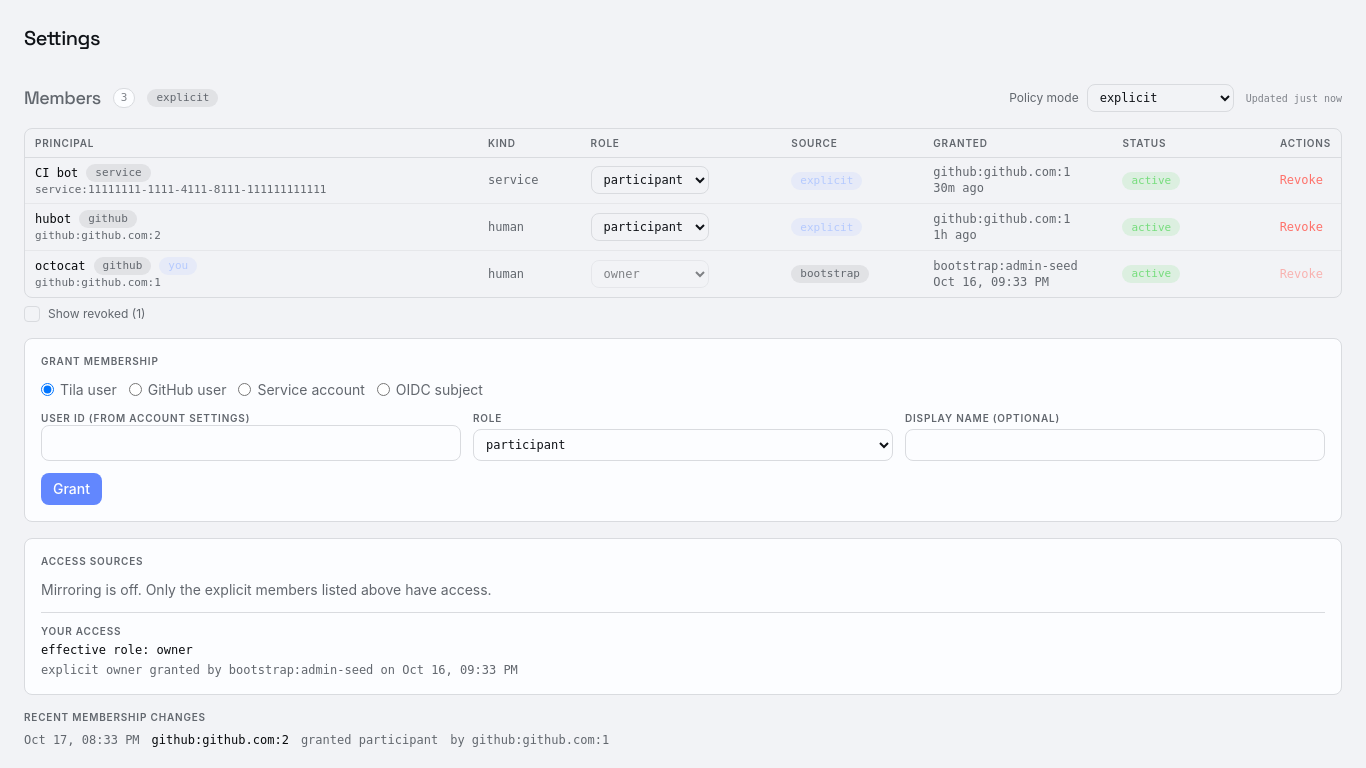
Test case: SettingsPage failure states › a failed members refresh keeps the table, the grant draft and an open revoke dialog
The image size is (1366, 768).
Click the radio button labelled "GitHub user" at (135, 390), box [129,383,142,396]
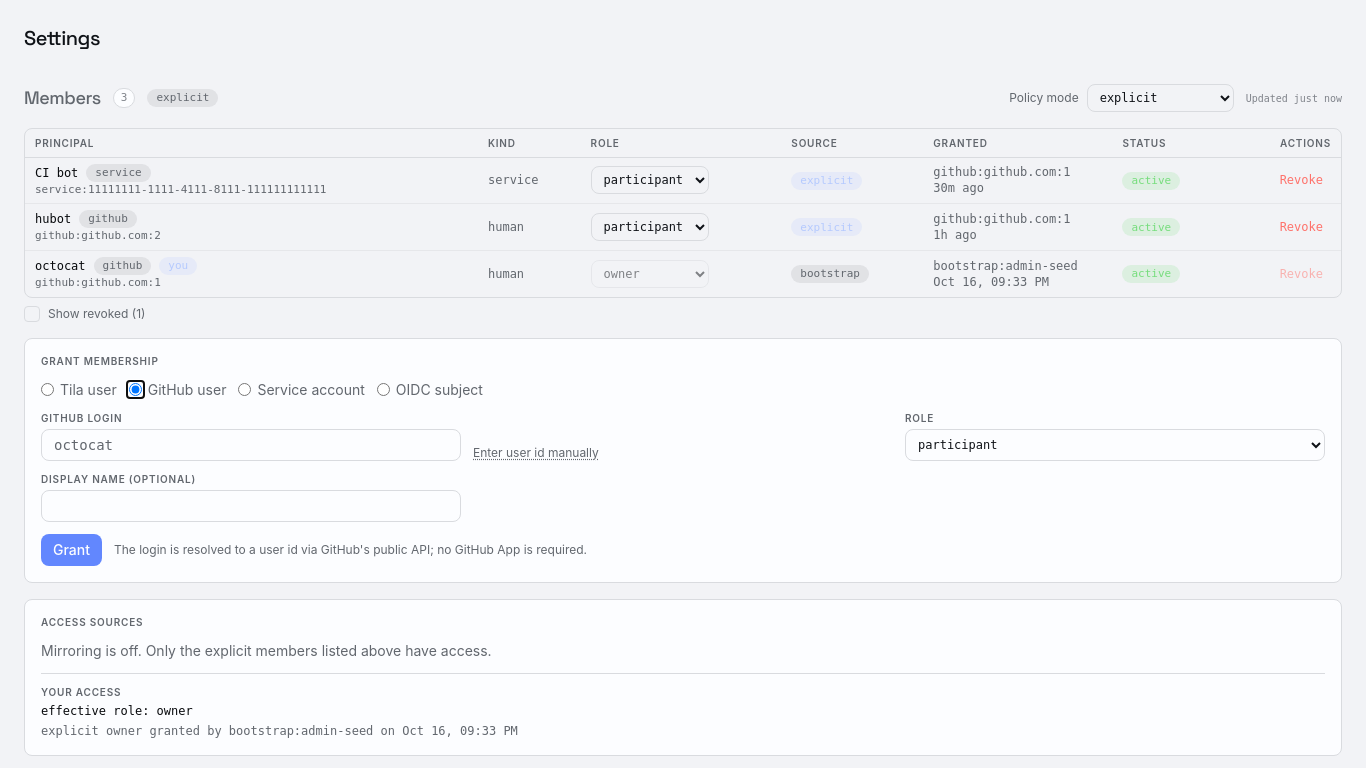
Type "new-person" into the field labelled "GitHub login" at (251, 445), box [41,429,461,461]
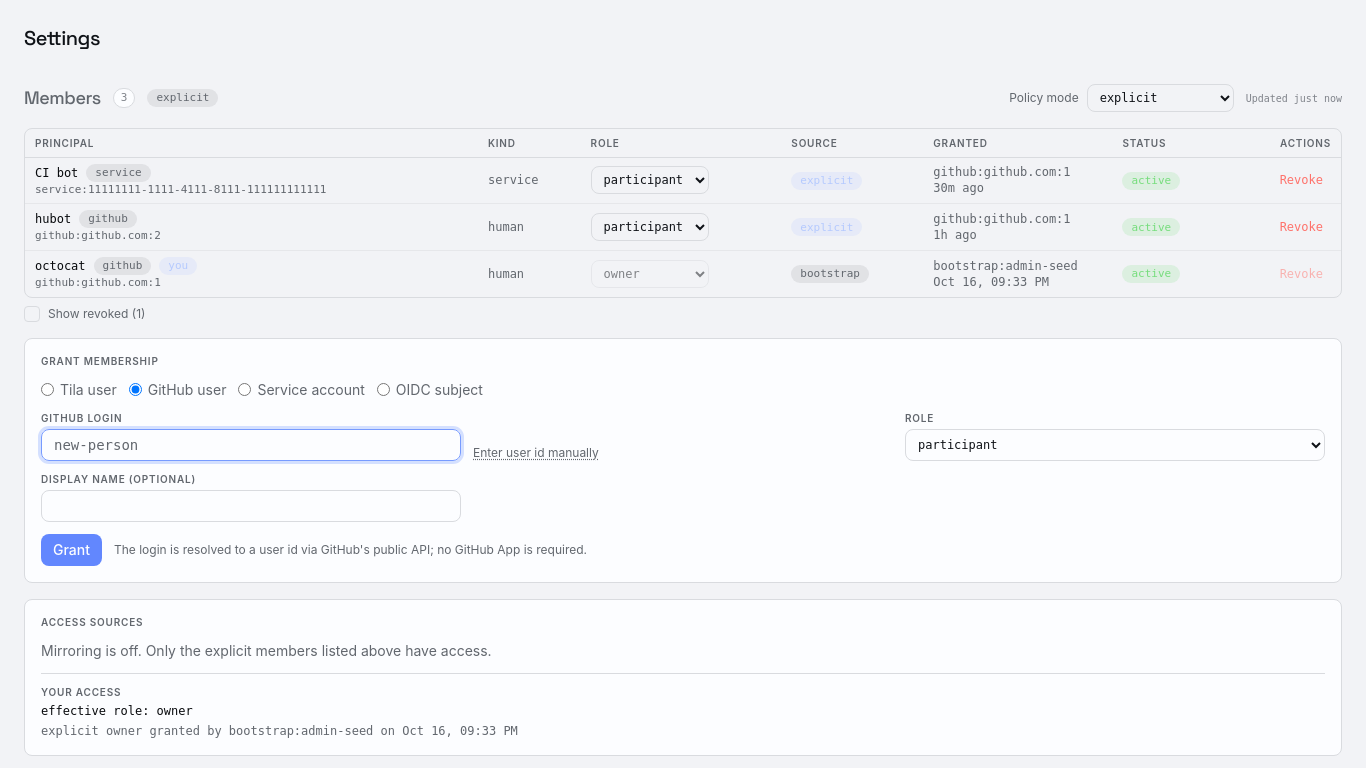
Click the button "Revoke" in the row of "hubot" at (1301, 227), box [1272,215,1331,239]
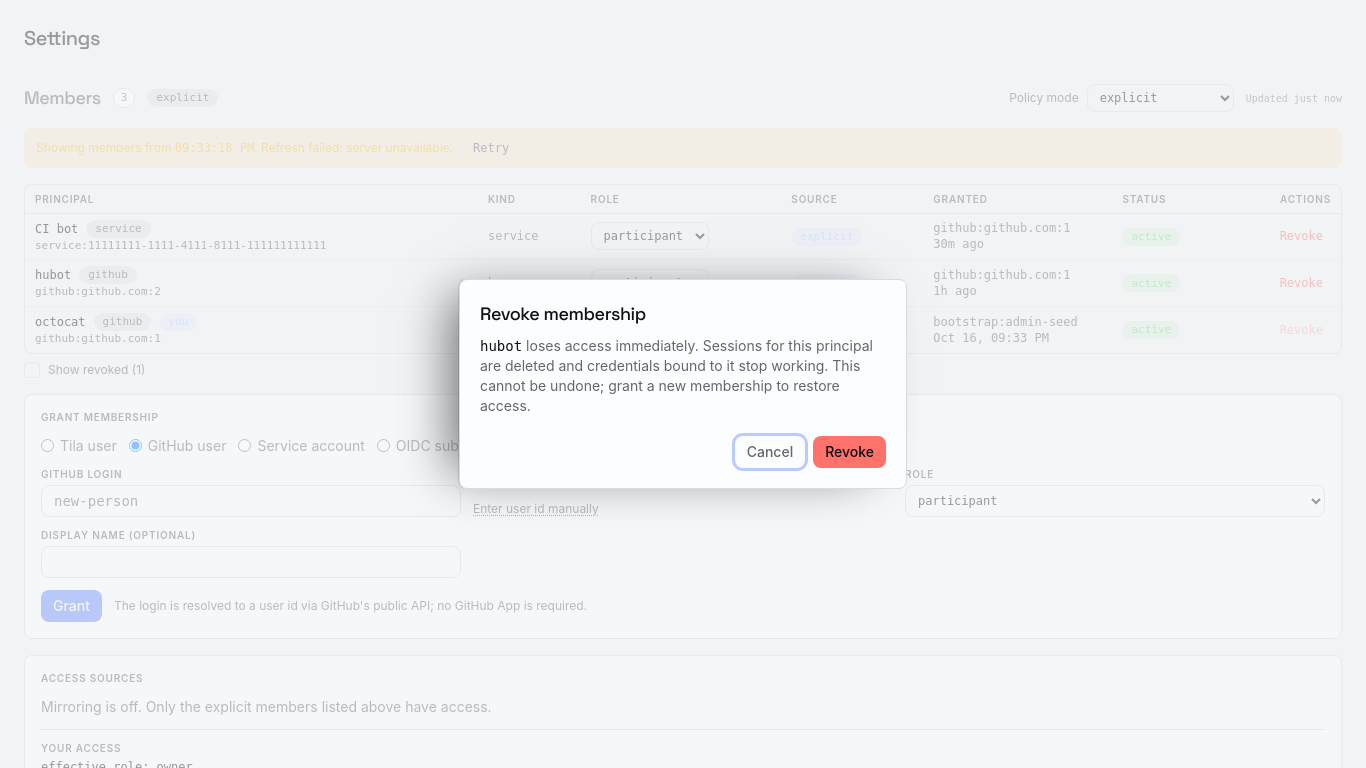
Expected: the table named "Members" is shown, [25,185,1341,353]
Expected: the dialog is shown, [459,279,907,489]
